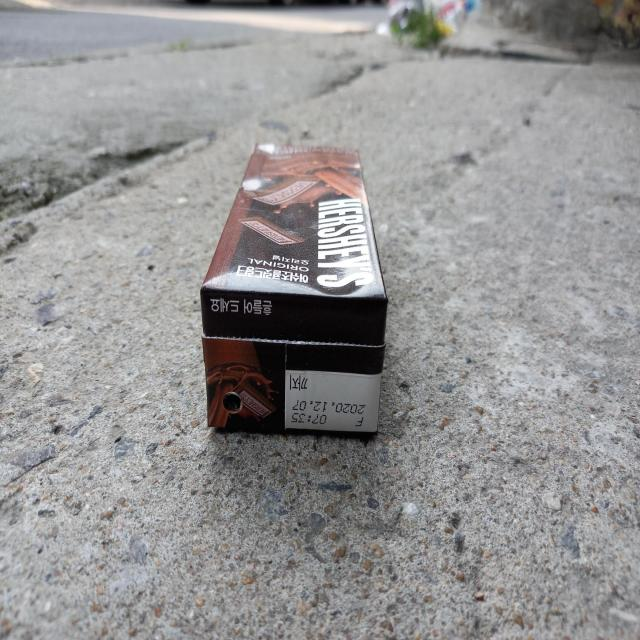paperpack: (200, 143, 388, 436)
